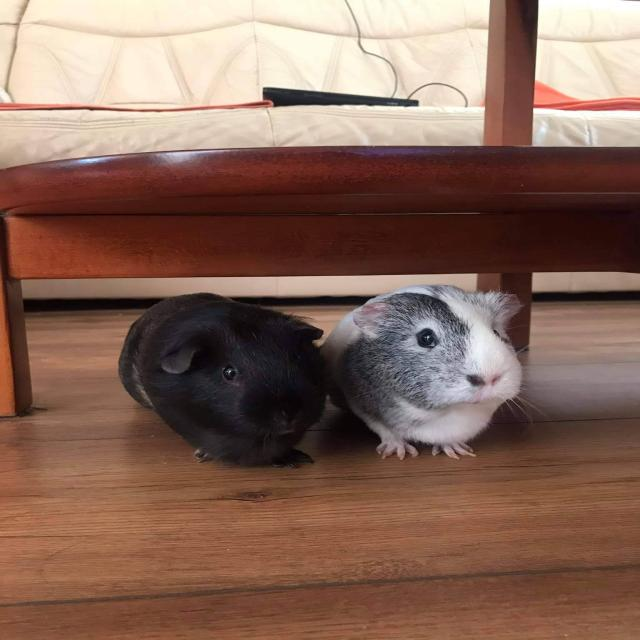guinea pig: (317, 278, 525, 460), (119, 293, 329, 469)
